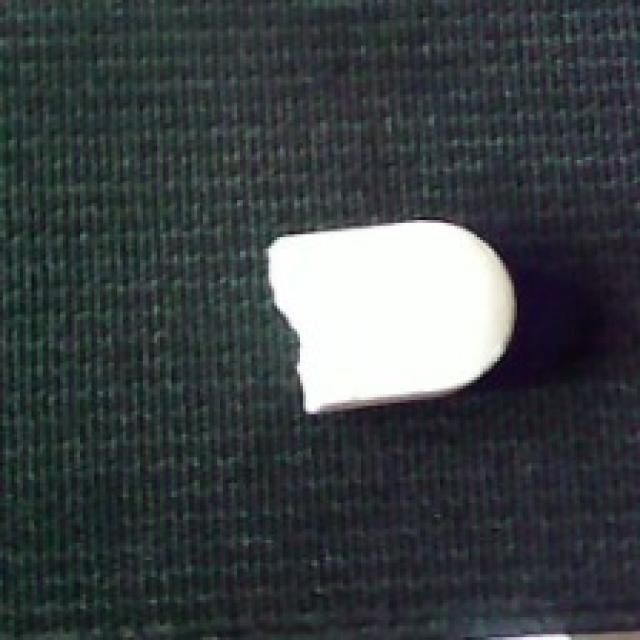defected: (260, 209, 526, 414)
